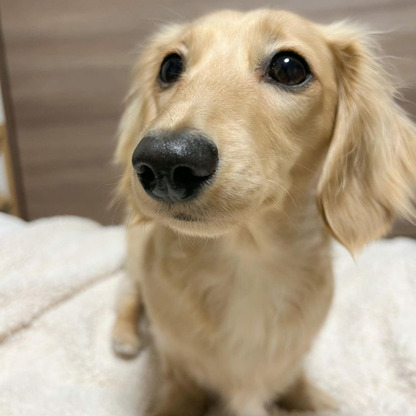dachshund: (96, 18, 405, 409)
